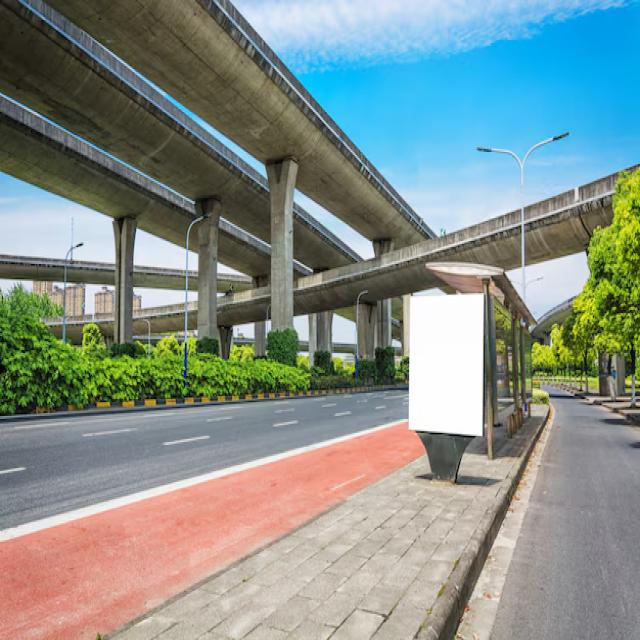Billboard_small: (402, 273, 492, 445)
Roadcorner: (2, 403, 396, 543), (426, 399, 564, 638), (4, 391, 307, 437)
Roadlane: (6, 401, 357, 483)
